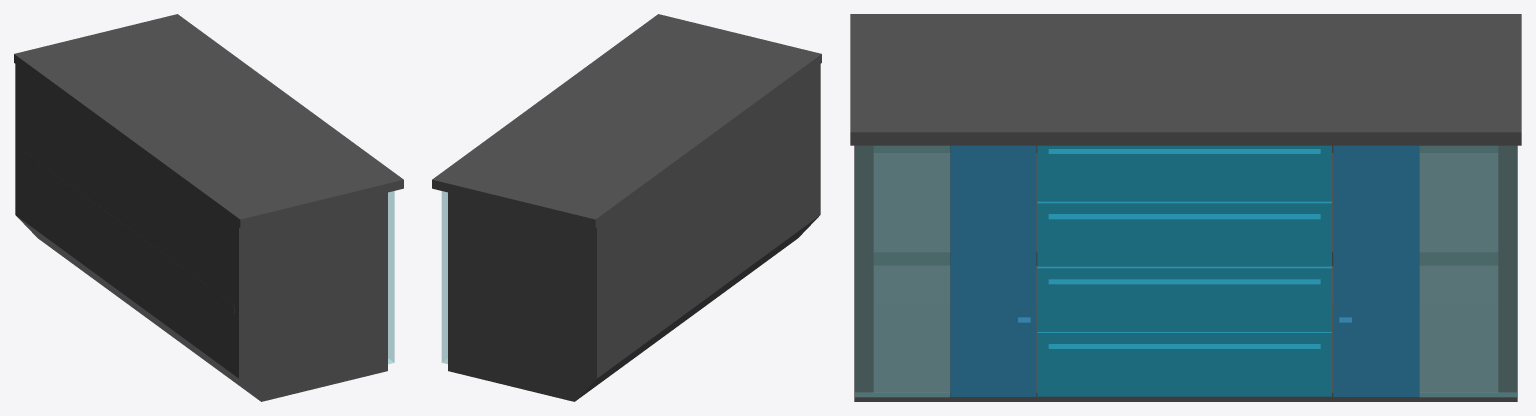
File: dresser_tier13.fbx
The picture shows the model from 3 angles, left to right: view 1: azimuth 30°, elevation 25°; view 2: azimuth 150°, elevation 25°; view 3: azimuth 270°, elevation 25°; orthographic projection. The views are drawn at different scales.
Visible parts, largest first — view 1: Cube.022, Cube.021, Cube.006, Cube.007; view 2: Cube.022, Cube.021, Cube.006, Cube.008; view 3: Cube.021, Cube.022, Cube.008, Cube.007, Cube.005, Cube.004, Cube.001, Cube.002, Cube.003, Cube.006, Cube.
Boxes of the visible parts, x1,y1,x2,y2 form: Cube.022: (15, 64, 387, 401); Cube.021: (14, 14, 403, 228); Cube.006: (20, 149, 234, 313); Cube.007: (388, 191, 394, 364); Cube.022: (448, 64, 820, 401); Cube.021: (432, 14, 821, 228); Cube.006: (602, 149, 815, 313); Cube.008: (441, 191, 447, 363); Cube.021: (850, 14, 1521, 145); Cube.022: (854, 145, 1517, 401); Cube.008: (1419, 145, 1516, 397); Cube.007: (855, 145, 949, 397); Cube.005: (1333, 145, 1419, 396); Cube.004: (950, 145, 1036, 396); Cube.001: (1037, 201, 1331, 266); Cube.002: (1037, 266, 1331, 331); Cube.003: (1037, 332, 1331, 396); Cube.006: (873, 153, 1498, 265); Cube: (1037, 145, 1331, 201).
Size of the model in its own units: 91.67 by 101 by 220.
